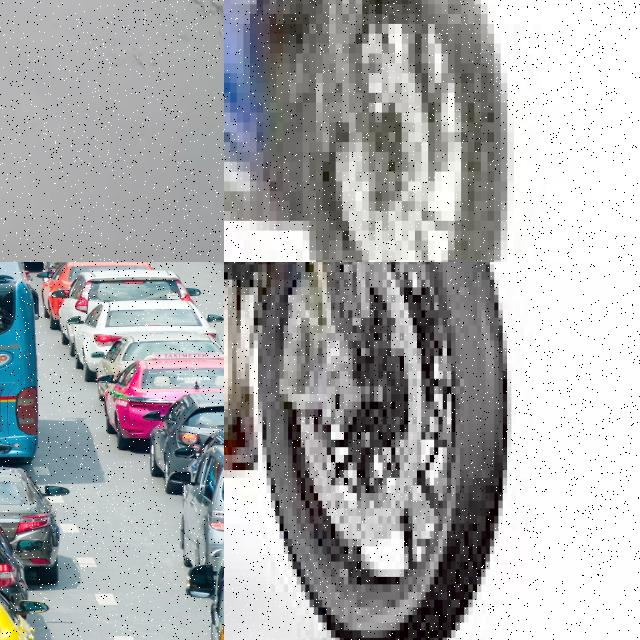bike: (224, 262, 511, 640), (224, 0, 520, 262)
car: (69, 308, 224, 436), (71, 296, 219, 387), (97, 345, 224, 451), (43, 262, 186, 334), (0, 464, 66, 595), (178, 434, 224, 598), (150, 394, 224, 492)
